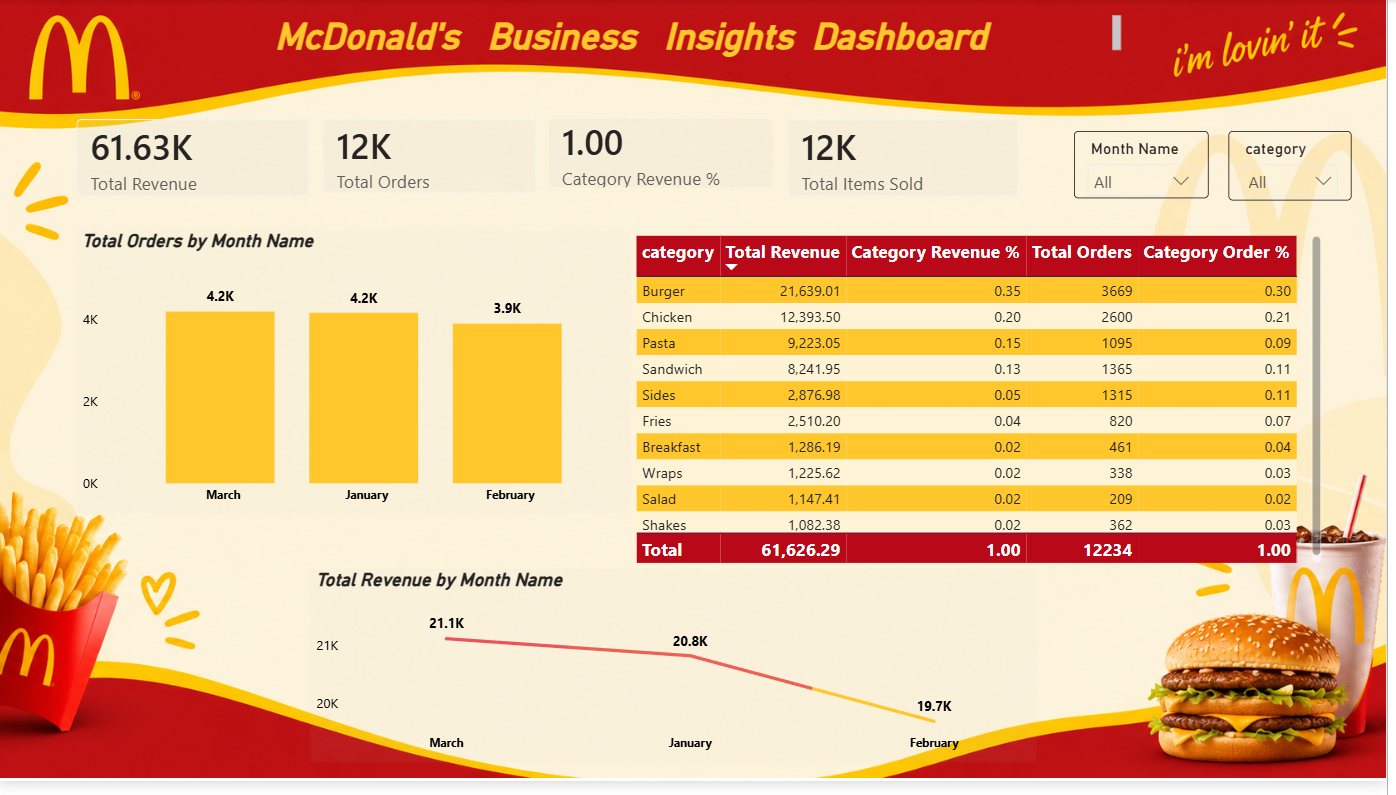

The dashboard page shown, as its layout file describes it:
{"tool":"powerbi","page":{"name":"business insight dashboard","canvas":[1280,720],"ordinal":3},"visuals":[{"type":"textbox","box":[135.4,9.7,905.1,52.5],"z":0},{"type":"cardVisual","fields":{"Data":["measure Table.Total Revenue"]},"box":[73,110.8,214.9,71.6],"z":1000},{"type":"lineChart","fields":{"Category":["order details.Month Name"],"Y":["measure Table.Total Revenue"]},"box":[288.5,524.7,668.9,177.7],"z":2000},{"type":"columnChart","fields":{"Category":["order details.Month Name"],"Y":["measure Table.Total Orders"]},"box":[73.2,213.2,510.1,261.3],"z":3000},{"type":"tableEx","fields":{"Values":["menu items.category","measure Table.Total Revenue","measure Table.Category Revenue %","measure Table.Total Orders","measure Table.Category Order %"]},"box":[583.2,213.2,641.7,311.5],"z":5000},{"type":"cardVisual","fields":{"Data":["measure Table.Category Revenue %"]},"box":[508.2,110.8,206.8,63.5],"z":6000},{"type":"cardVisual","fields":{"Data":["measure Table.Total Orders"]},"box":[300.1,110.8,197.4,68.9],"z":7000},{"type":"cardVisual","fields":{"Data":["measure Table.Total Items Sold"]},"box":[728.6,110.8,213.6,71.6],"z":8000},{"type":"slicer","fields":{"Values":["order details.Month Name"]},"box":[992.4,121.4,124.2,62.1],"z":8001},{"type":"slicer","fields":{"Values":["menu items.category"]},"box":[1135.1,121.4,113.2,64],"z":8002}]}

Visuals, with their boxes in screenshot pixels (x1, y1, x2, y2), scaled from the page's 1280x720 canvas onto the 1396x795 screenshot:
textbox: 148 11 1135 69
cardVisual - measure Table.Total Revenue: 80 122 314 201
lineChart - order details.Month Name x measure Table.Total Revenue: 315 579 1044 776
columnChart - order details.Month Name x measure Table.Total Orders: 80 235 636 524
tableEx - menu items.category x measure Table.Total Revenue: 636 235 1336 579
cardVisual - measure Table.Category Revenue %: 554 122 780 192
cardVisual - measure Table.Total Orders: 327 122 543 198
cardVisual - measure Table.Total Items Sold: 795 122 1028 201
slicer - order details.Month Name: 1082 134 1218 203
slicer - menu items.category: 1238 134 1361 205
